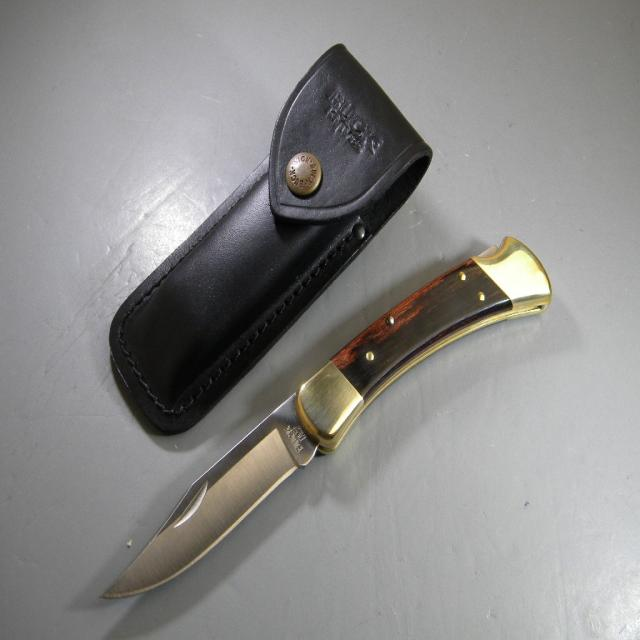knife: (86, 234, 566, 618)
